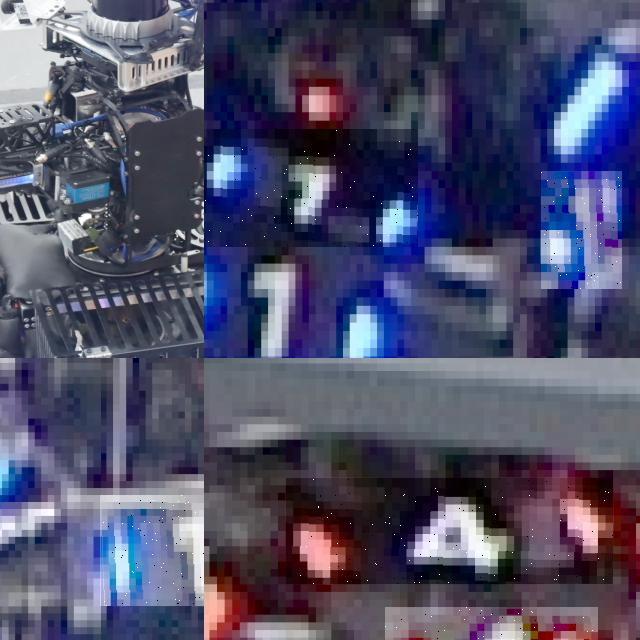B1: (204, 129, 418, 247), (204, 247, 390, 358), (99, 494, 204, 606), (541, 171, 622, 289)
R4: (286, 478, 613, 584), (384, 607, 598, 640), (204, 523, 232, 640)
